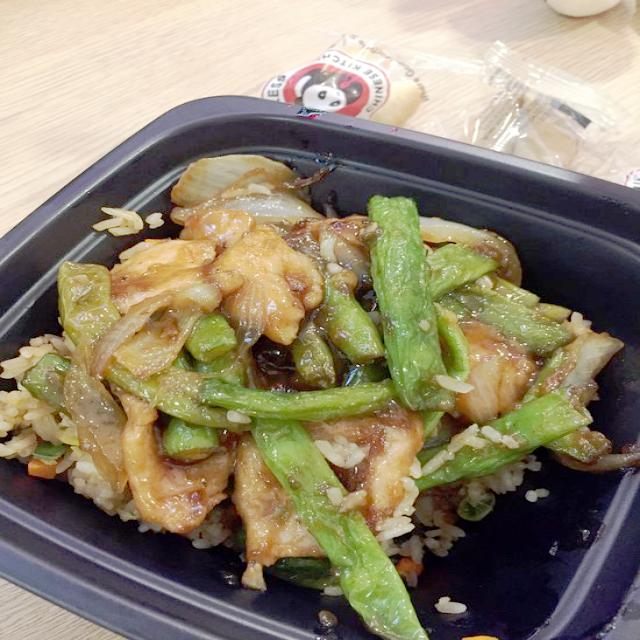String Bean Chicken Breast: (0, 152, 618, 640)
